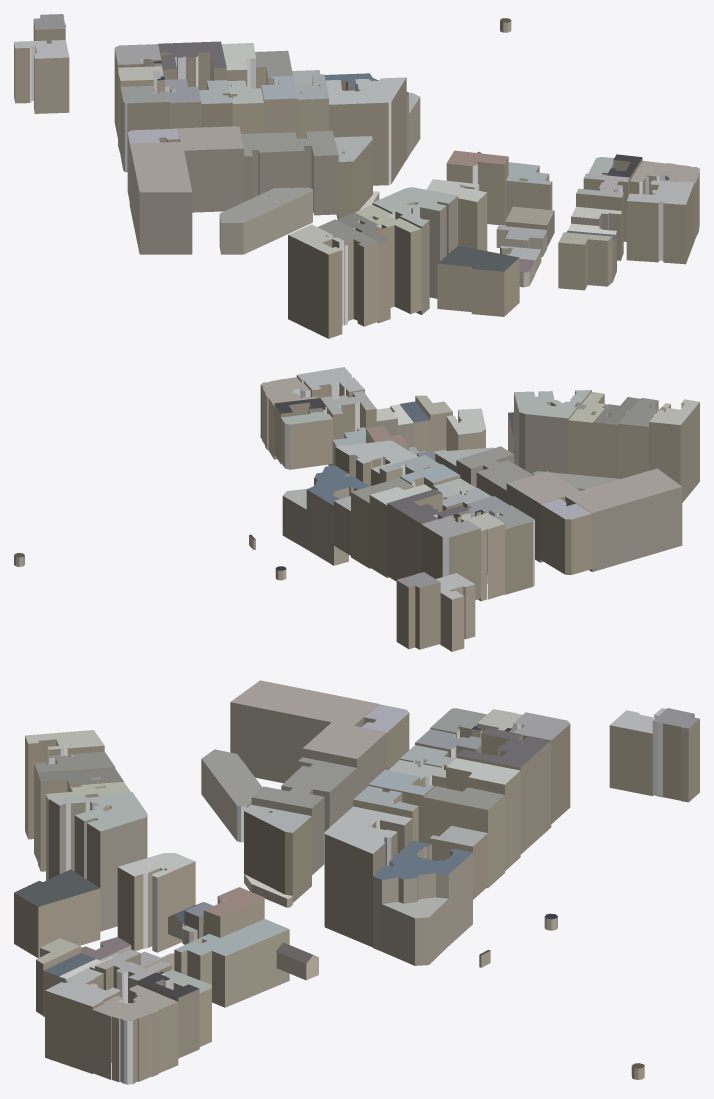
3 views of the same model, one above another, from view 1: azimuth 30°, elevation 25°; view 2: azimuth 150°, elevation 25°; view 3: azimuth 270°, elevation 25° (orthographic). The views are drawn at different scales.
Parts seen in each view (by area): view 1: tuile; view 2: tuile; view 3: tuile.
Part boxes in pixels (x1,y1,x2,y2): tuile: (14,14,699,338); tuile: (14,367,699,651); tuile: (14,680,699,1084).
Size of the model in its own units: 277 by 64.65 by 270.
